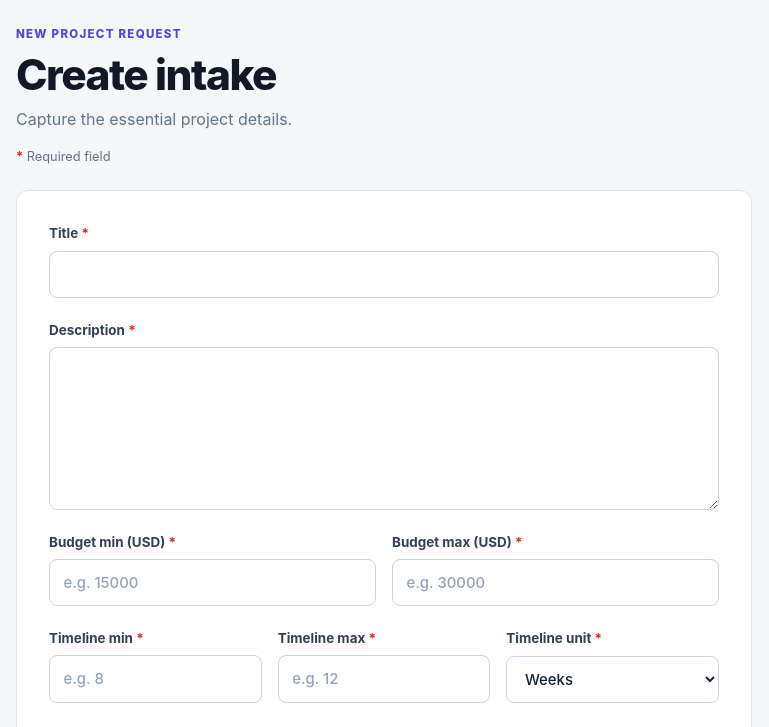
Scenario: explains when the intake was saved but AI analysis failed
In the field labelled "Title": [384, 274] box x1=49 y1=251 x2=719 y2=298, type "Permit review copilot"
In the text box labelled "Description": [384, 429] box x1=49 y1=347 x2=719 y2=510, type "Review construction permits and building requirements."
In the number field labelled "Budget min (USD)": [212, 583] box x1=49 y1=559 x2=376 y2=606, type "1500"
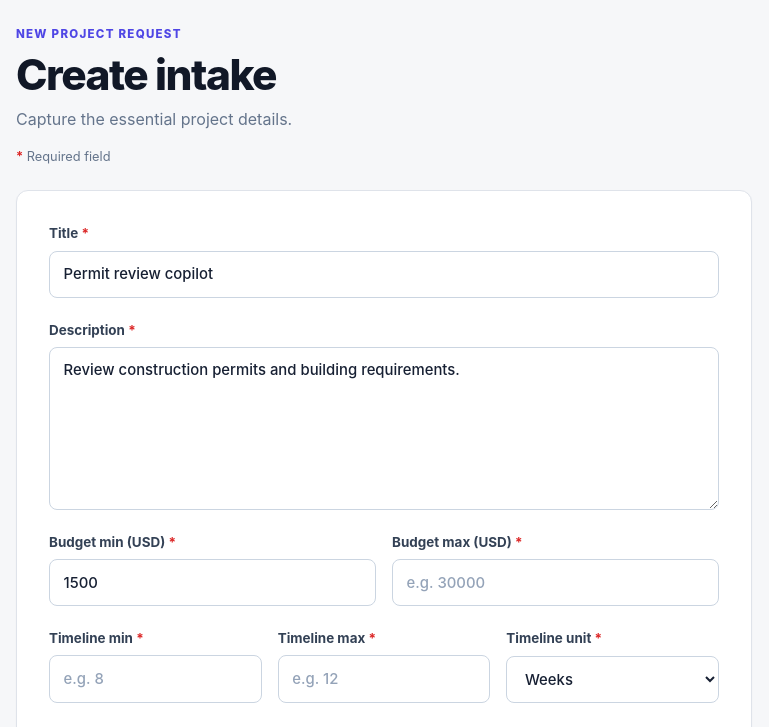
In the number field labelled "Budget max (USD)": [556, 583] box x1=392 y1=559 x2=719 y2=606, type "15000"
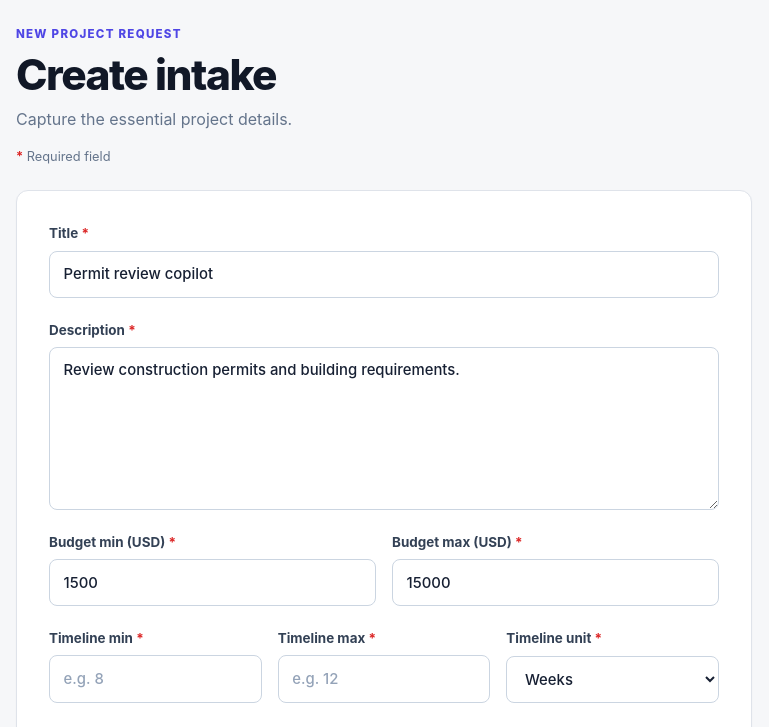
In the number field labelled "Timeline min": [155, 679] box x1=49 y1=655 x2=262 y2=703, type "2"
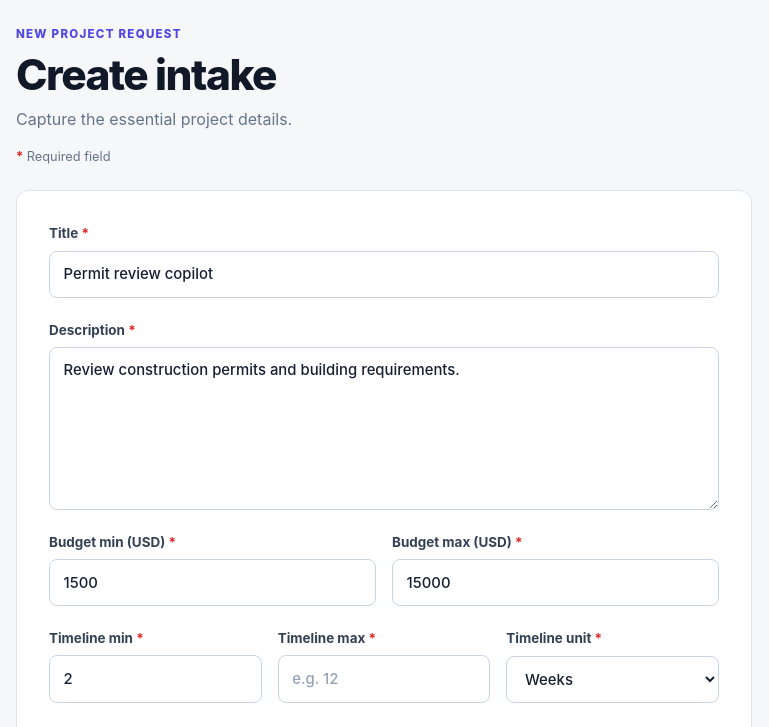
In the number field labelled "Timeline max": [384, 679] box x1=278 y1=655 x2=490 y2=703, type "4"
(page scrolled)
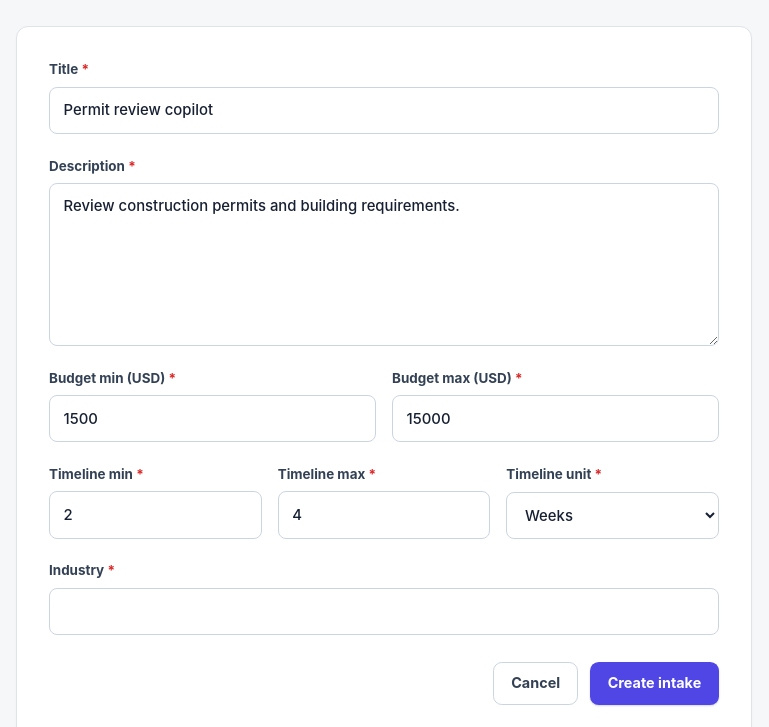
In the field labelled "Industry": [384, 611] box x1=49 y1=588 x2=719 y2=635, type "Construction"
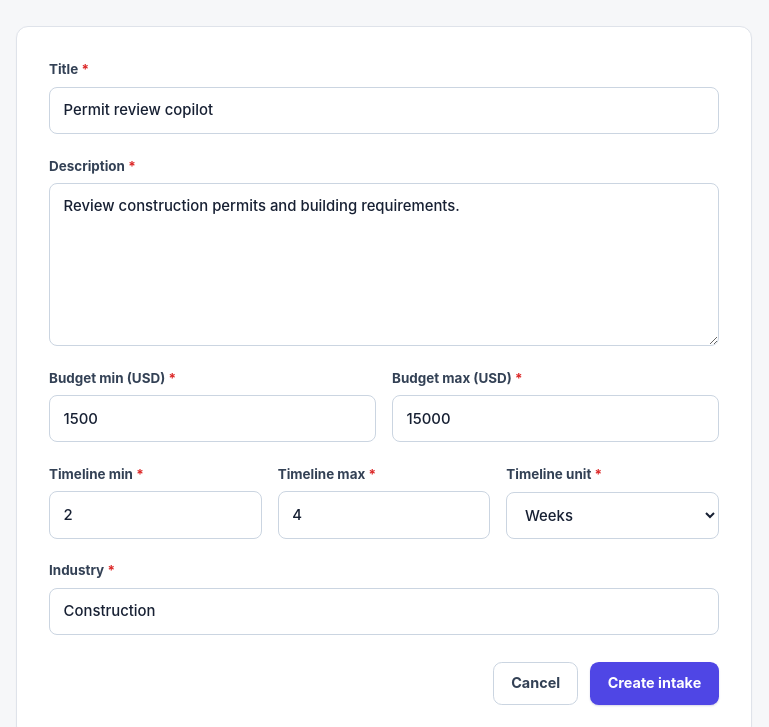
Click the button "Create intake": [654, 683] box x1=590 y1=662 x2=719 y2=705
(page scrolled)
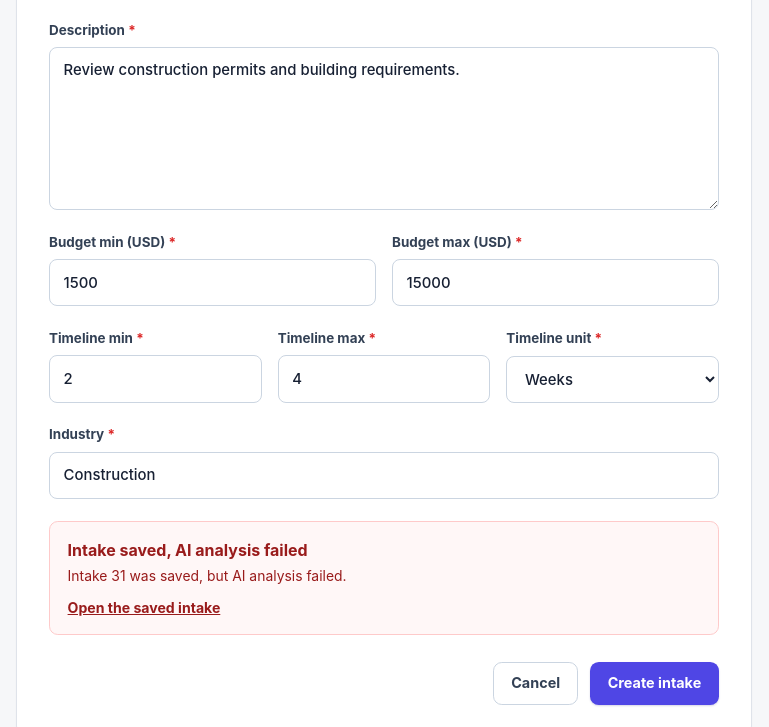
Check: the text "Intake saved, AI analysis failed" is shown, box x1=68 y1=540 x2=308 y2=560
